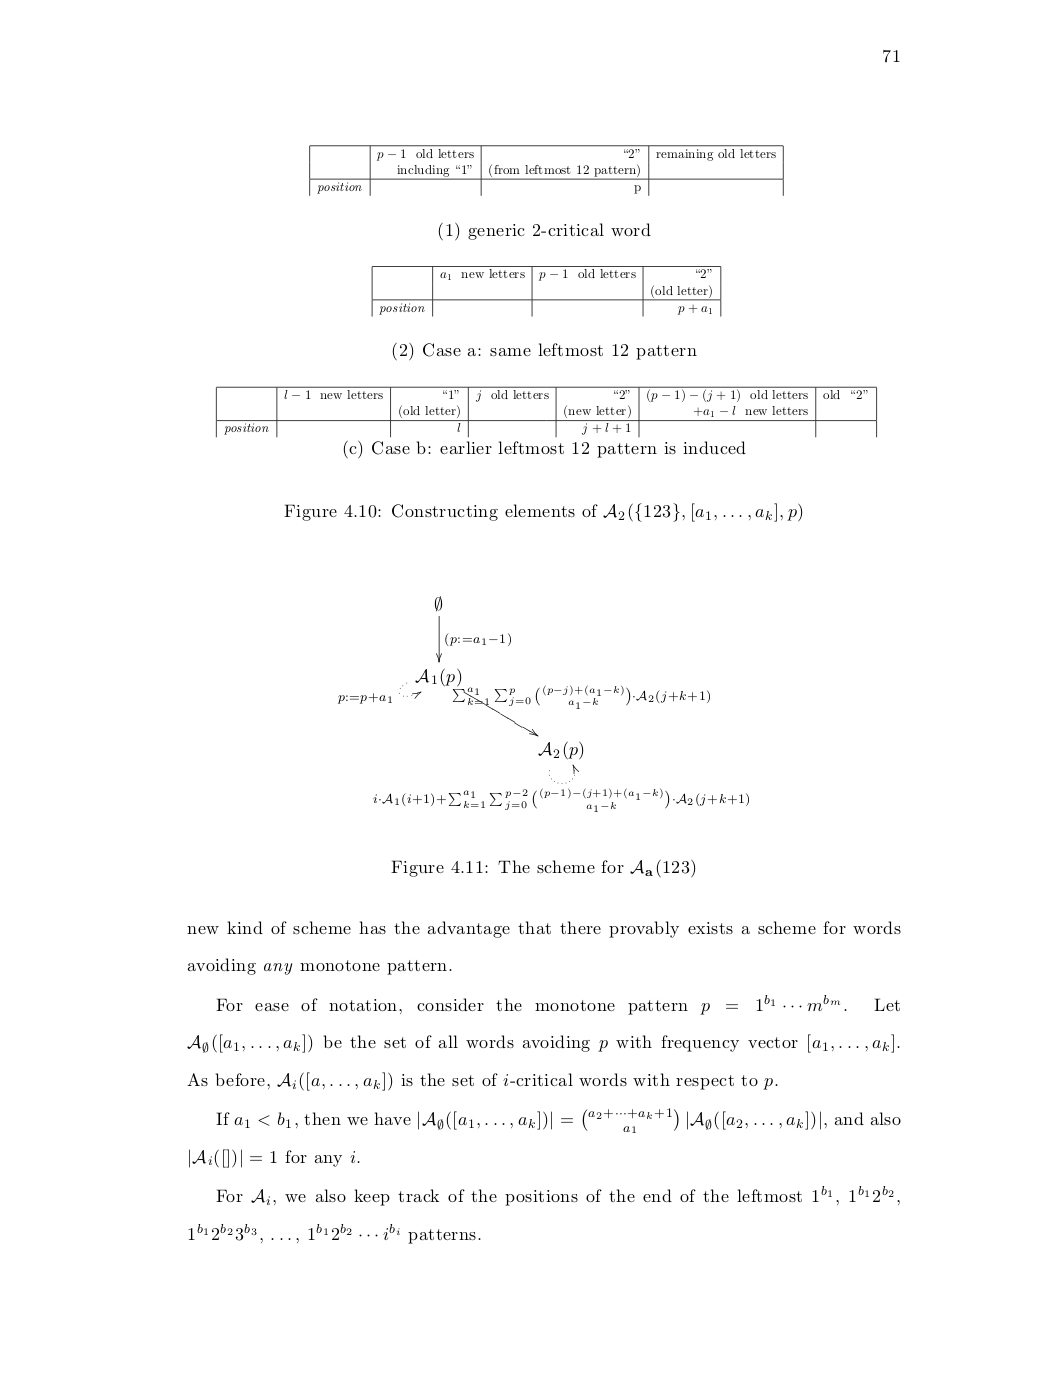Table: (215, 386, 877, 437), (309, 144, 783, 196), (371, 265, 721, 317)
figure: (337, 596, 748, 811)
